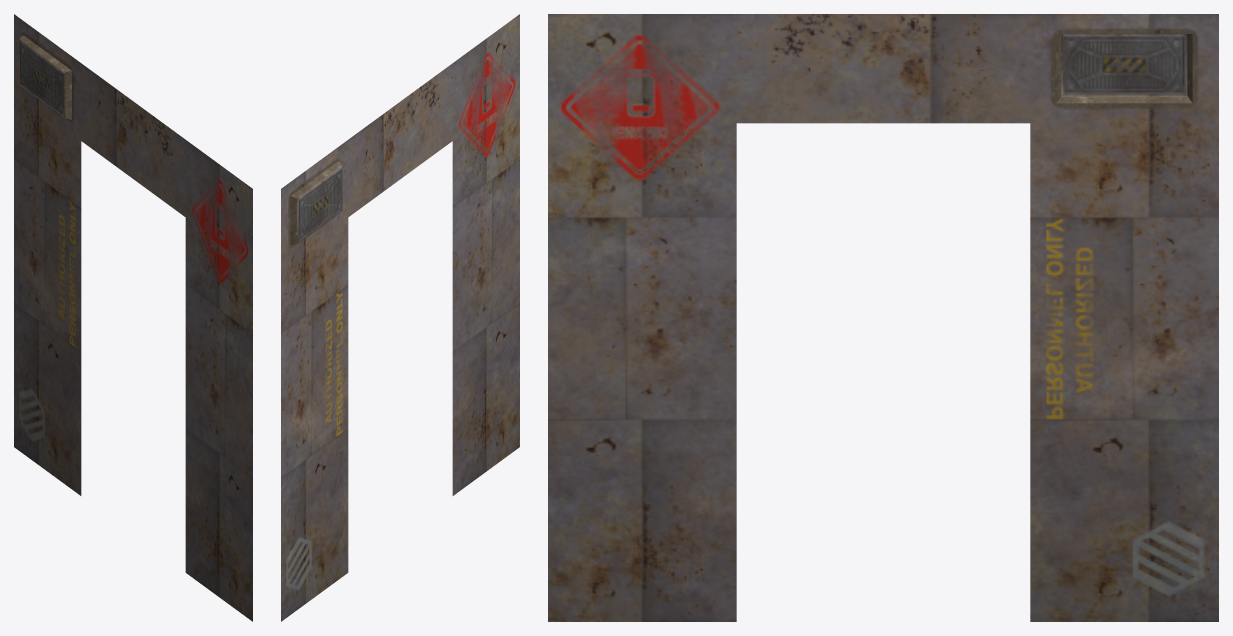
The model's file is SM_Modular_Walls_Two_LP_Plain_Wall5.fbx.
3 renders of one model, left to right at view 1: azimuth 30°, elevation 25°; view 2: azimuth 150°, elevation 25°; view 3: azimuth 270°, elevation 25°, orthographic. The views are drawn at different scales.
Visible parts, largest first — view 1: SM_Modular_Walls_Two_LP_Plain_Wall5_LOD0; view 2: SM_Modular_Walls_Two_LP_Plain_Wall5_LOD0; view 3: SM_Modular_Walls_Two_LP_Plain_Wall5_LOD0.
Boxes of the visible parts, bbox=[...] form: SM_Modular_Walls_Two_LP_Plain_Wall5_LOD0: bbox=[14, 14, 252, 621]; SM_Modular_Walls_Two_LP_Plain_Wall5_LOD0: bbox=[281, 14, 519, 621]; SM_Modular_Walls_Two_LP_Plain_Wall5_LOD0: bbox=[548, 14, 1218, 621].
Size of the model in its own units: 3.45 by 240 by 240.
1 material, 1 textured.
